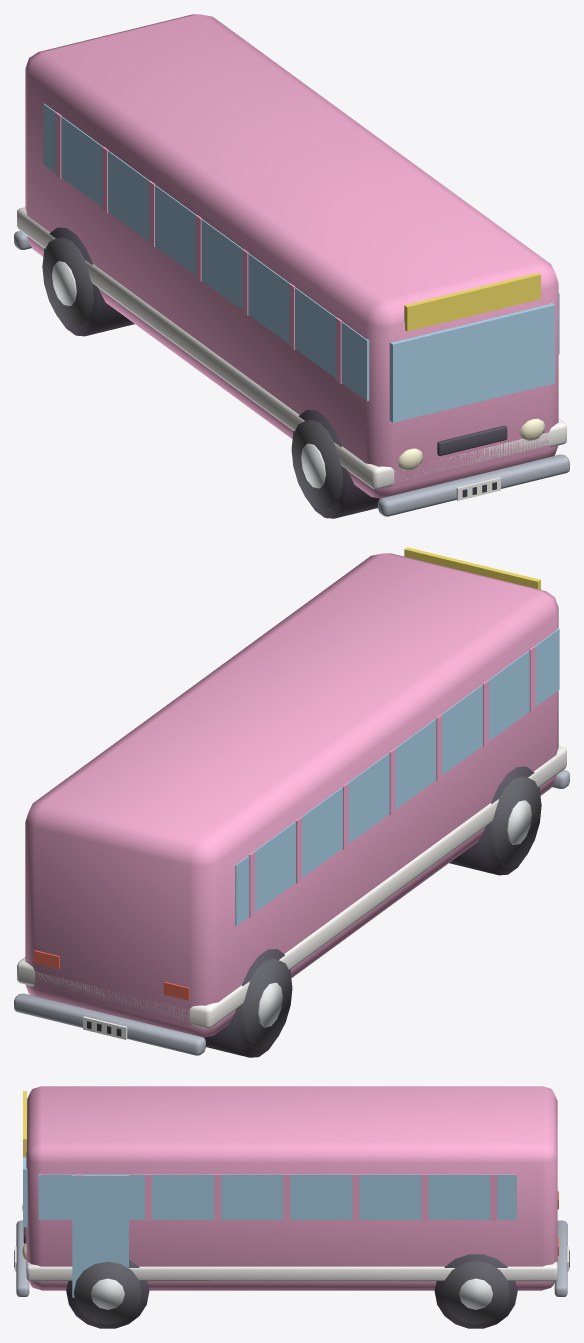
The model's file is Car_BasMini.fbx.
3 views of the same model, one above another, from view 1: azimuth 30°, elevation 25°; view 2: azimuth 150°, elevation 25°; view 3: azimuth 270°, elevation 25° (orthographic). The views are drawn at different scales.
Parts seen in each view (by area): view 1: Body, Wheel_FL, Wheel_RL; view 2: Body, Wheel_FL, Wheel_RL; view 3: Body, Wheel_RR, Wheel_FR.
Boxes of the visible parts, x1,y1,x2,y2 form: Body: [14, 14, 569, 518]; Wheel_FL: [291, 419, 342, 510]; Wheel_RL: [42, 237, 93, 328]; Body: [14, 547, 569, 1057]; Wheel_FL: [490, 776, 541, 867]; Wheel_RL: [241, 958, 292, 1049]; Body: [14, 1086, 569, 1328]; Wheel_RR: [442, 1261, 509, 1324]; Wheel_FR: [74, 1261, 141, 1324].
Size of the model in its own units: 2.5 by 2.8 by 7.85.
